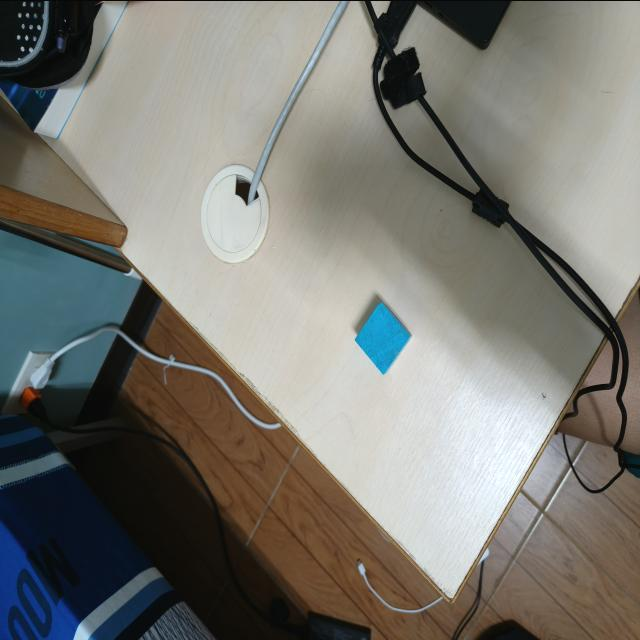blue_block: (354, 298, 412, 376)
